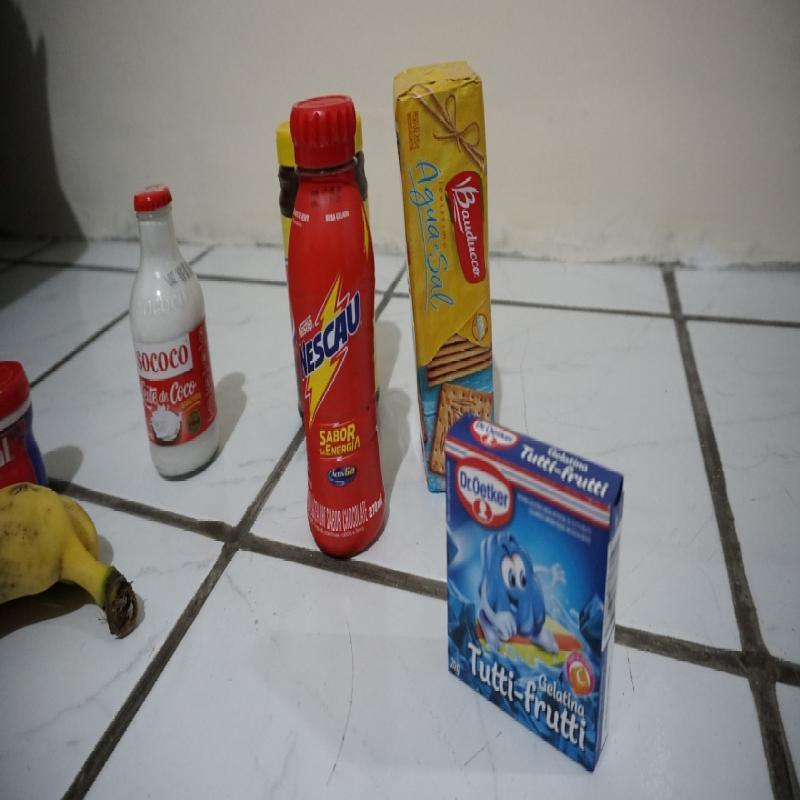Banana: (0, 483, 133, 658)
Chocolate Milk: (297, 109, 388, 544)
Chocolate Powder: (277, 124, 297, 214)
Coconut Milk: (129, 181, 225, 481)
Cracker: (390, 65, 492, 426)
Gelatine: (443, 418, 622, 774)
Yeast: (0, 352, 54, 476)
